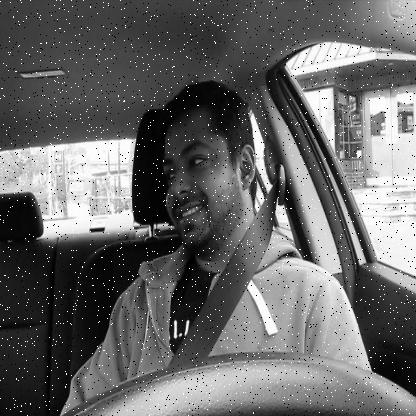seatbelt: (127, 80, 280, 379)
